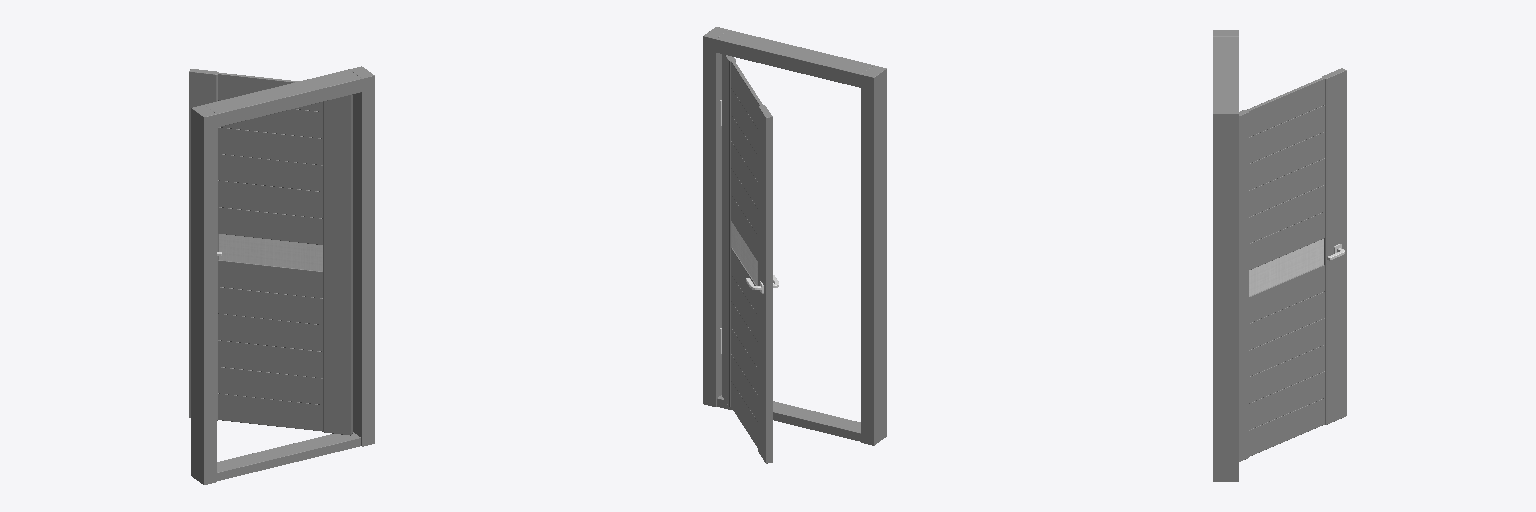
The picture shows the model from 3 angles: view 1: azimuth 30°, elevation 25°; view 2: azimuth 150°, elevation 25°; view 3: azimuth 270°, elevation 25°; orthographic projection.
Size of the model in its own units: 1.06 by 2.18 by 0.72.
3 materials, 1 textured.